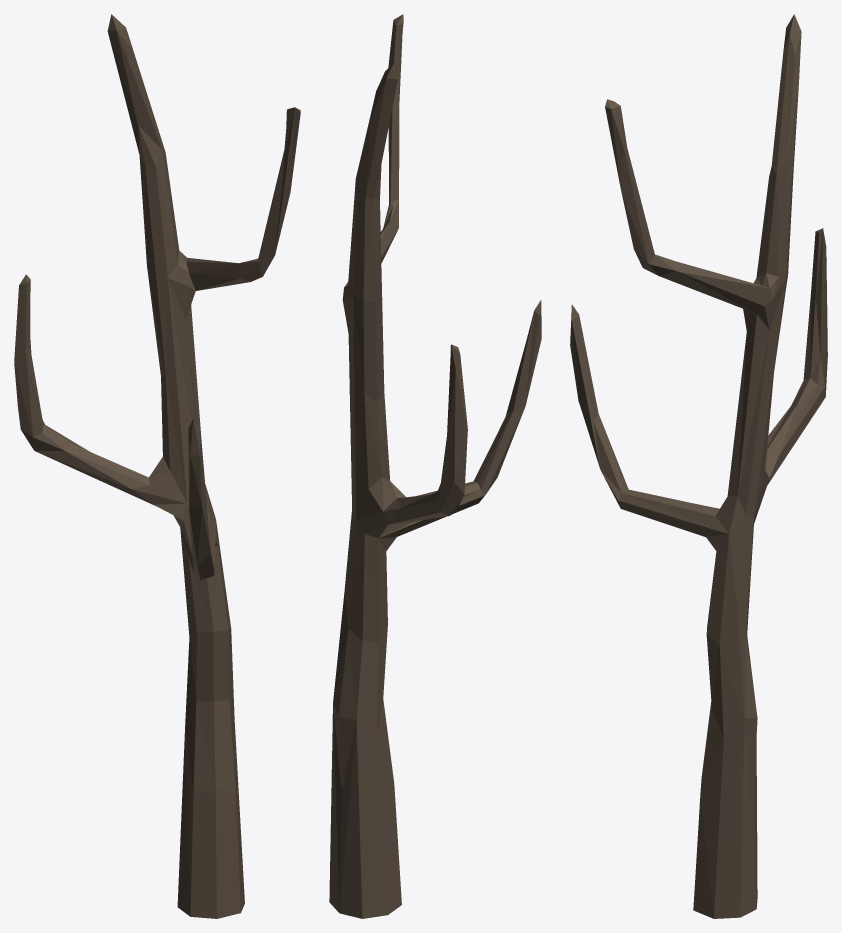
The model's file is dead_a.glb.
3 renders of one model, left to right at view 1: azimuth 30°, elevation 25°; view 2: azimuth 150°, elevation 25°; view 3: azimuth 270°, elevation 25°, orthographic. The views are drawn at different scales.
Visible parts, largest first — view 1: dead_a; view 2: dead_a; view 3: dead_a.
Part boxes in pixels (x1=…): dead_a: x1=14, y1=14, x2=300, y2=918; dead_a: x1=329, y1=14, x2=541, y2=918; dead_a: x1=570, y1=14, x2=827, y2=918.
Size of the model in its own units: 0.6416 by 3 by 0.8133.
